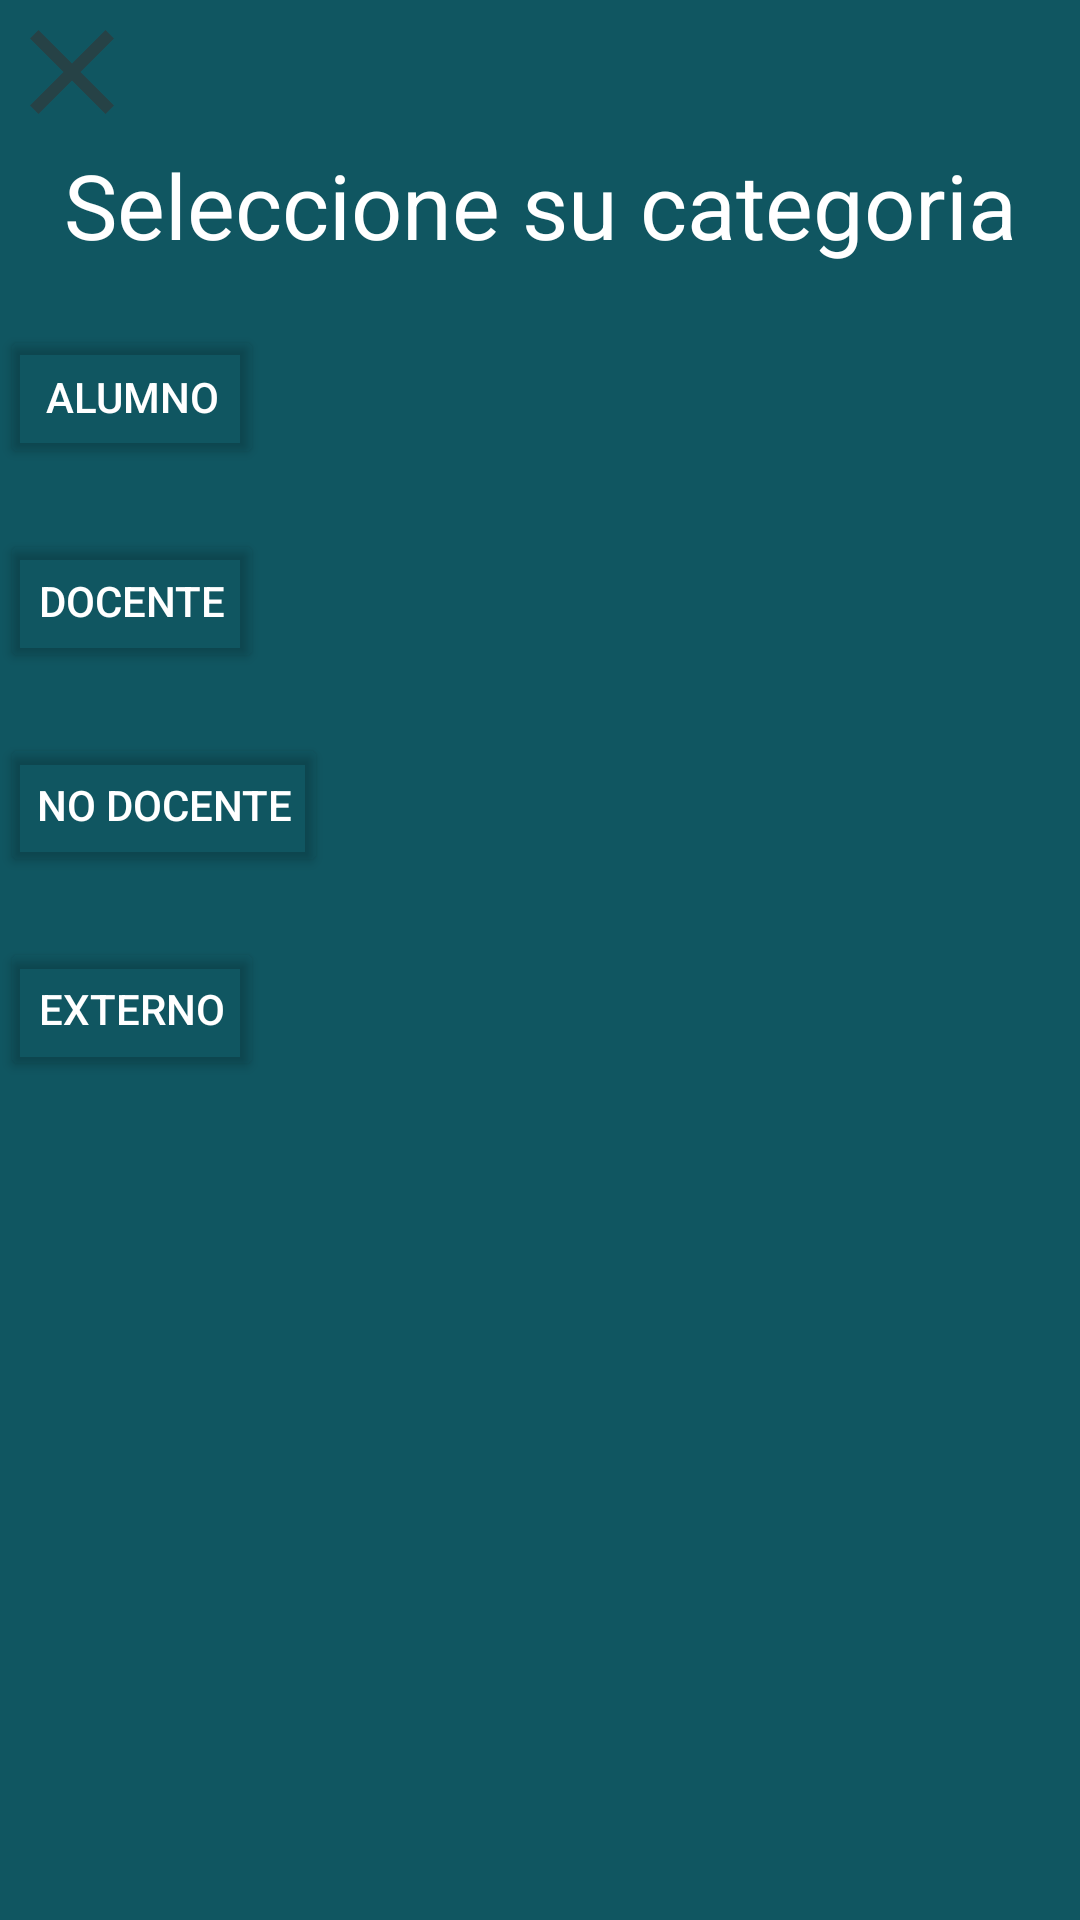

Named icons in this screenshot (1080 x 1920) and their centers, (x,y):
close: (72,72)
